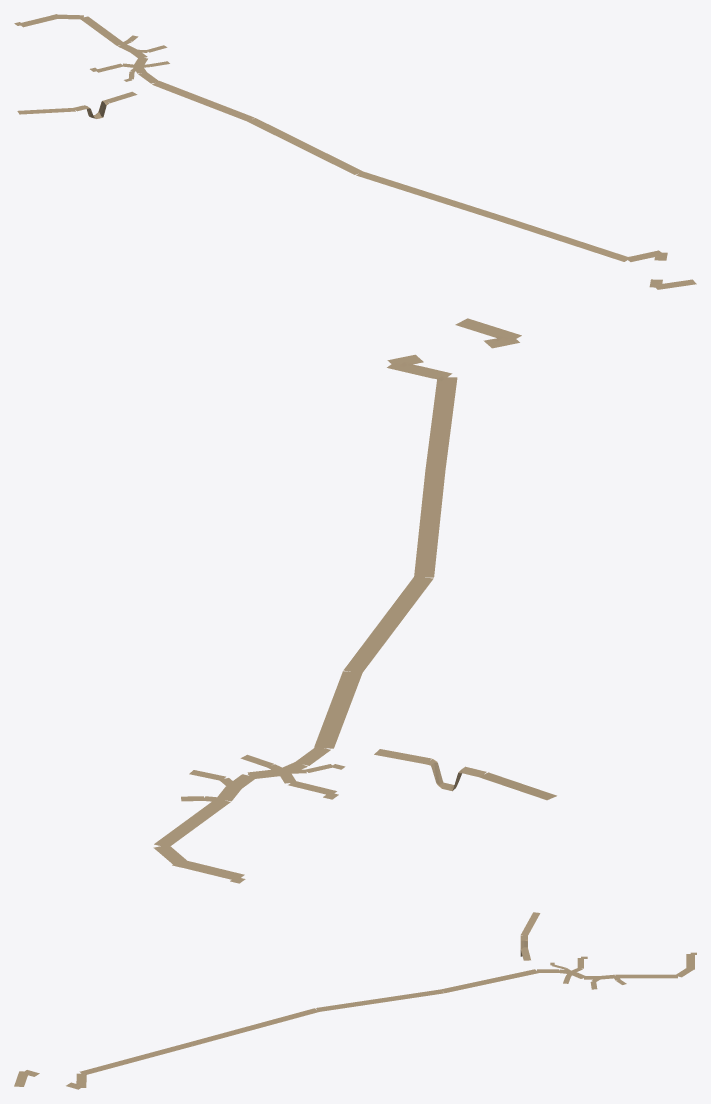
The model's file is ranch_paths.glb.
3 renders of one model, top to bottom at view 1: azimuth 30°, elevation 25°; view 2: azimuth 150°, elevation 25°; view 3: azimuth 270°, elevation 25°, orthographic. The views are drawn at different scales.
Visible parts, largest first — view 1: ranch_connection, ranch_farm_lane, ranch_ranch_side_route; view 2: ranch_connection, ranch_farm_lane, ranch_ranch_side_route; view 3: ranch_connection, ranch_farm_lane, ranch_ranch_side_route.
Boxes of the visible parts, box(x1,y1,x2,y2) form: ranch_connection: box(152, 81, 696, 289); ranch_farm_lane: box(19, 14, 158, 83); ranch_ranch_side_route: box(17, 91, 137, 118); ranch_connection: box(314, 318, 521, 748); ranch_farm_lane: box(153, 747, 330, 879); ranch_ranch_side_route: box(374, 749, 556, 800); ranch_connection: box(14, 969, 538, 1089); ranch_farm_lane: box(537, 954, 694, 979); ranch_ranch_side_route: box(520, 912, 540, 960).
Size of the model in its own units: 115 by 9 by 218.
